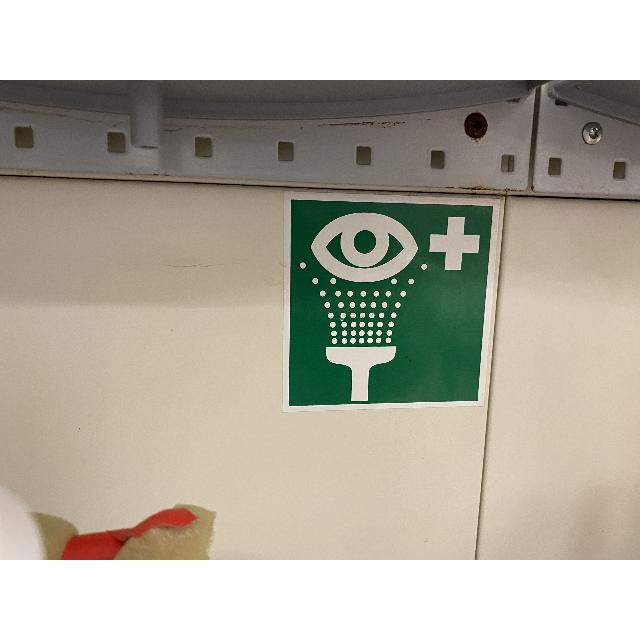eye shower: (284, 191, 502, 411)
